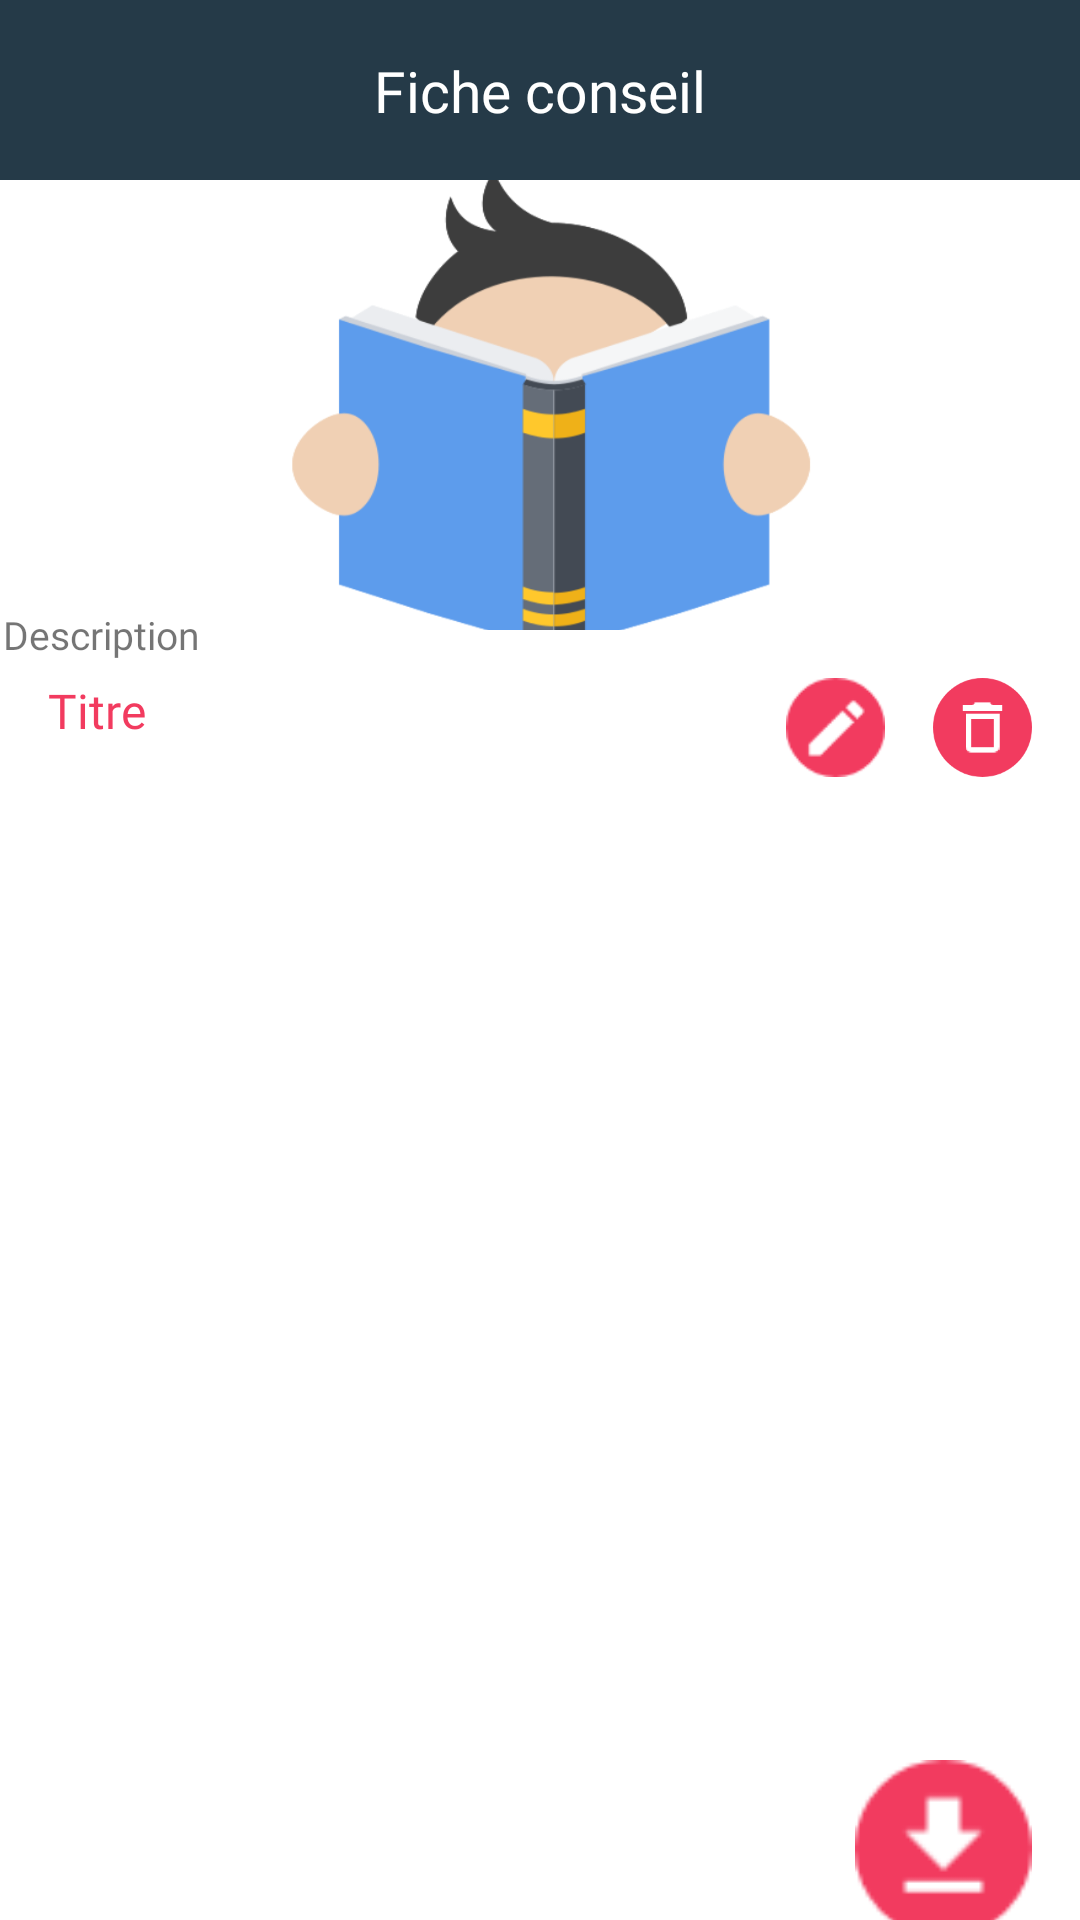

Icon bounding boxes for this 1080*1920 phone screenshot, format (x1, y1, x2, y2):
deletepink: (933, 678, 1032, 777)
downgroupe: (855, 1760, 1032, 1920)
editgroupe: (786, 678, 885, 777)
